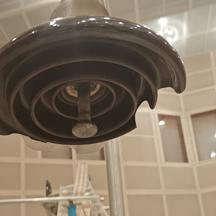insulator: (0, 0, 192, 157)
